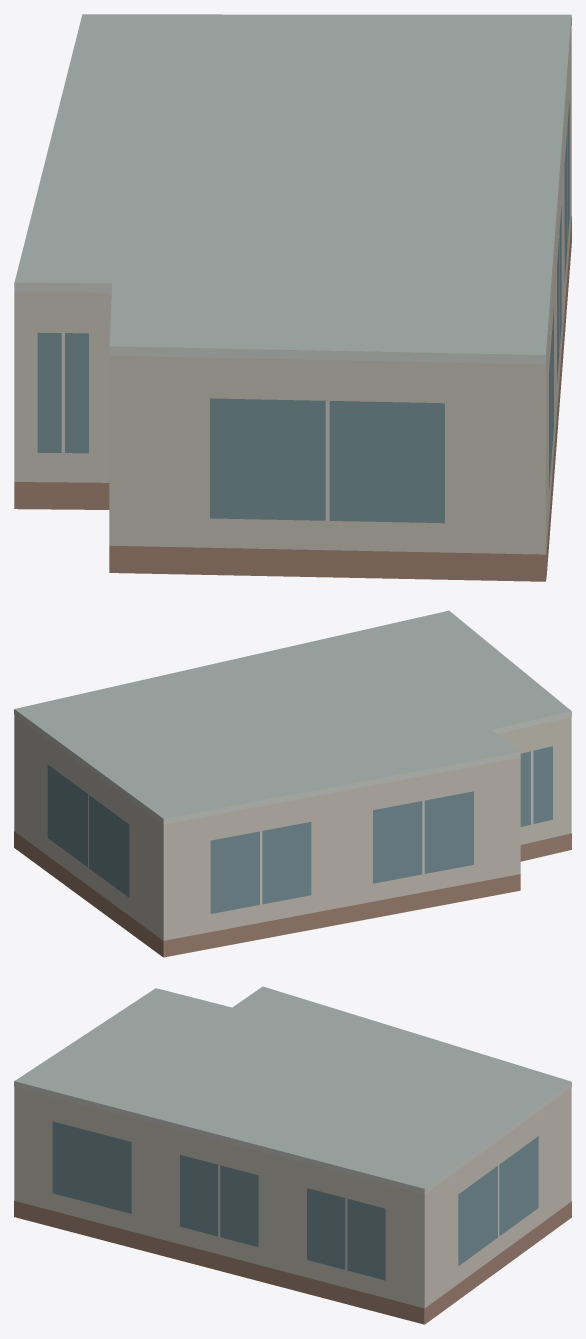
The model's file is survey-upis-32830493.glb.
3 views of the same model, one above another, from view 1: azimuth 30°, elevation 25°; view 2: azimuth 150°, elevation 25°; view 3: azimuth 270°, elevation 25° (orthographic). The views are drawn at different scales.
Visible parts, largest first — view 1: survey-upis-32830493.tmp; view 2: survey-upis-32830493.tmp; view 3: survey-upis-32830493.tmp.
Boxes of the visible parts, left/top/right/bottom form: survey-upis-32830493.tmp: left=14, top=14, right=571, bottom=581; survey-upis-32830493.tmp: left=14, top=610, right=571, bottom=957; survey-upis-32830493.tmp: left=14, top=986, right=571, bottom=1324.
Size of the model in its own units: 9.77 by 3.05 by 11.36.
